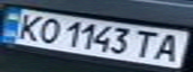1: (60, 19, 84, 48), (78, 20, 96, 51)
3: (109, 25, 133, 56)
4: (93, 22, 115, 54)
A: (148, 32, 190, 63)
K: (9, 11, 48, 42)
O: (30, 16, 63, 45)
T: (130, 28, 163, 60)
